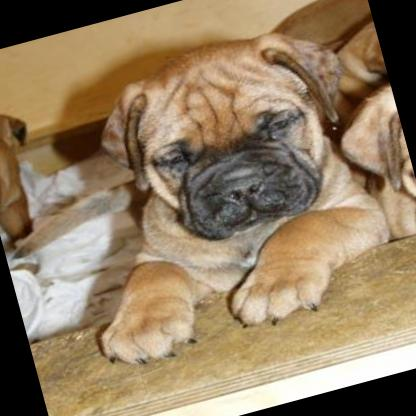bull_mastiff: (30, 9, 404, 372)
